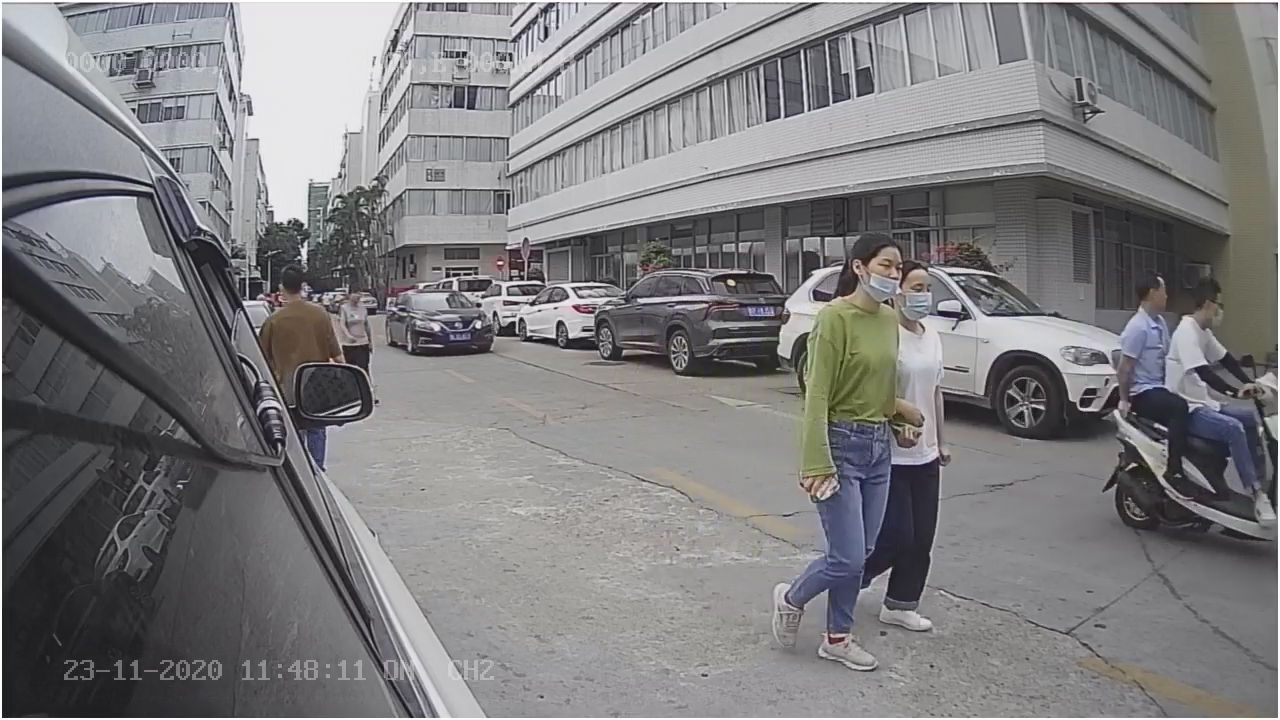person: (760, 223, 906, 665)
